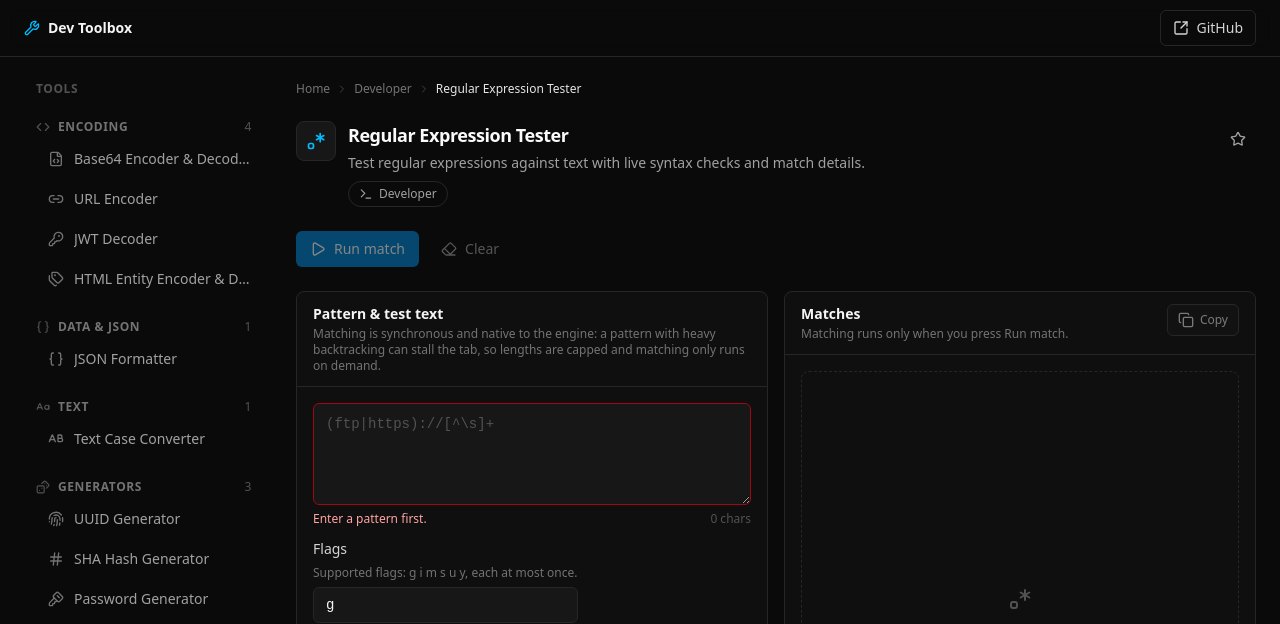
it: Regular Expression Tester › reports a pattern that does not compile and disables running
Check: the heading "Regular Expression Tester" is shown, box [348,123,568,147]
Type "(" into the text box named "Pattern" at point(532, 454), box [313,403,751,505]
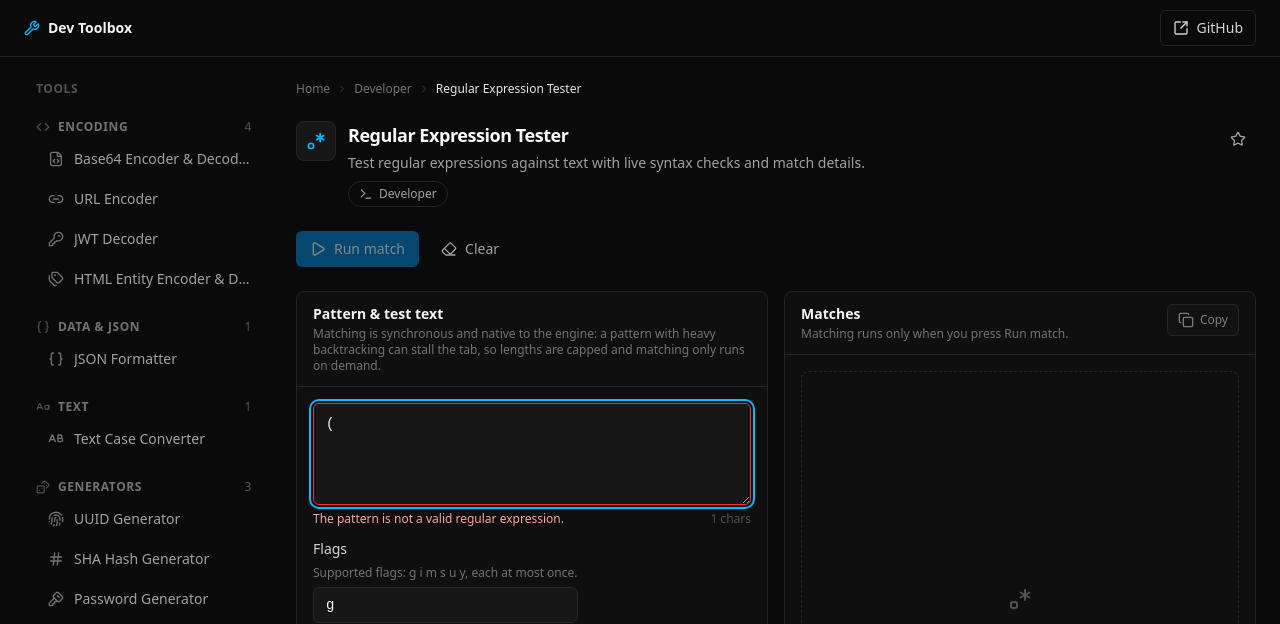
Check: the button "Run match" is disabled, box [296,231,419,267]
Check: the text "The pattern is not a valid regular expression." is shown, box [313,511,564,527]
